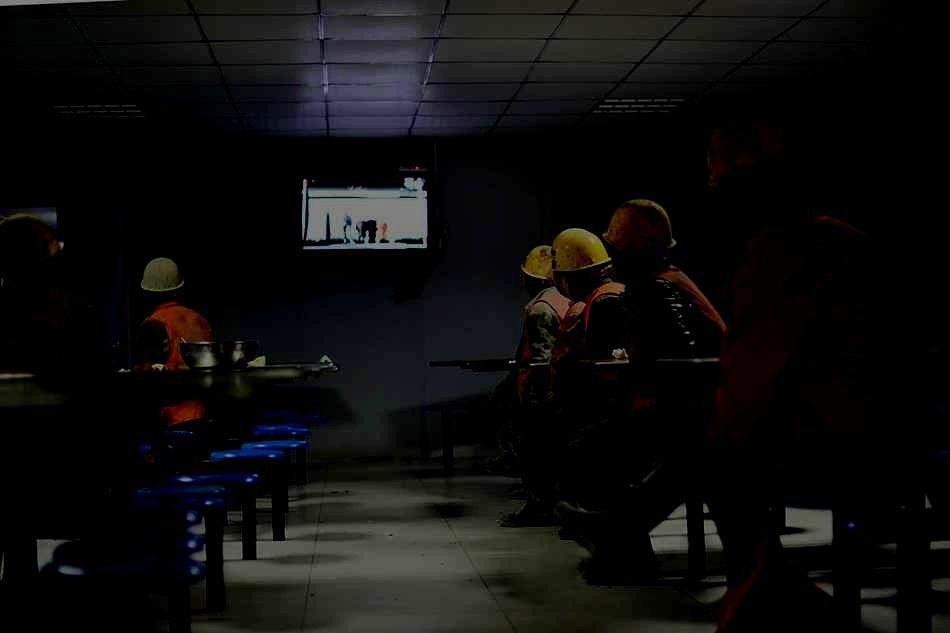helmet: (602, 199, 676, 280), (550, 228, 612, 298), (141, 256, 185, 304), (520, 245, 554, 290)
